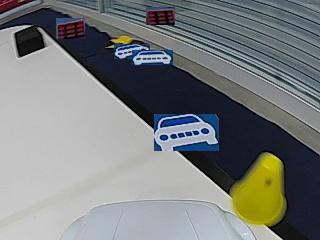block: (14, 26, 45, 57)
cone: (232, 153, 286, 225)
